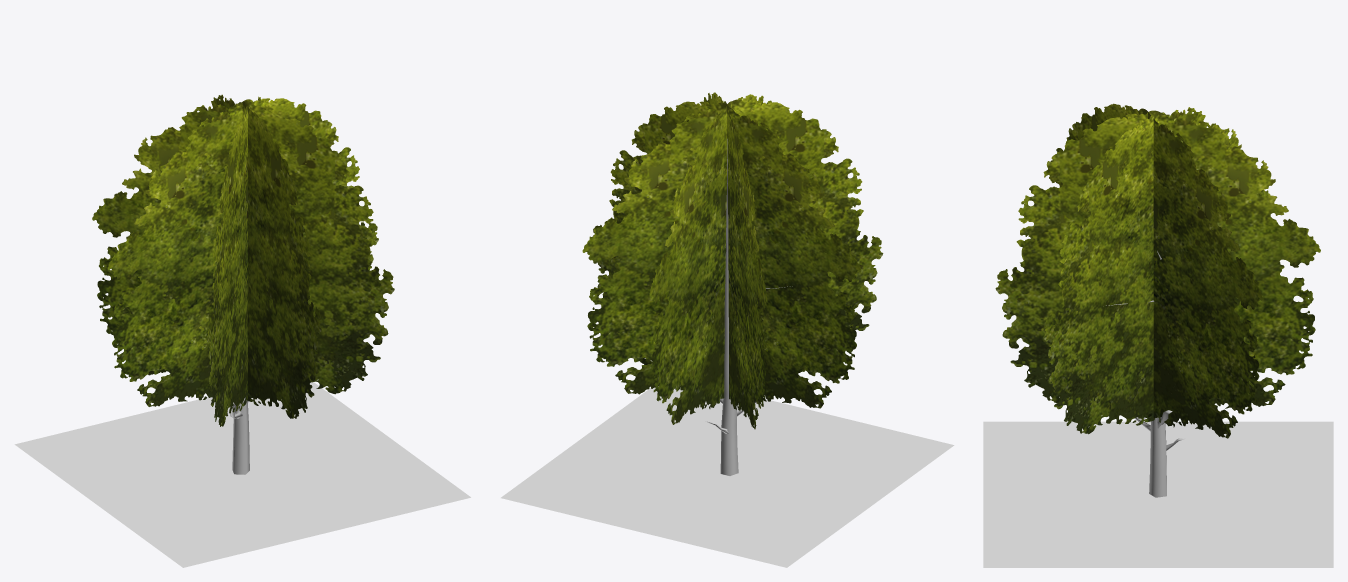
File: tree_03.FBX
3 renders of one model, left to right at view 1: azimuth 30°, elevation 25°; view 2: azimuth 150°, elevation 25°; view 3: azimuth 270°, elevation 25°, orthographic. The views are drawn at different scales.
Parts seen in each view (by area): view 1: tree_03_01, tree_03_sd001, tree_03_02; view 2: tree_03_01, tree_03_sd001, tree_03_02; view 3: tree_03_01, tree_03_sd001, tree_03_02.
Part boxes in pixels (<box>): tree_03_01: <box>92,94,394,426</box>; tree_03_sd001: <box>14,382,470,567</box>; tree_03_02: <box>229,397,249,474</box>; tree_03_01: <box>582,92,883,429</box>; tree_03_sd001: <box>501,386,954,567</box>; tree_03_02: <box>707,139,792,475</box>; tree_03_01: <box>995,103,1320,438</box>; tree_03_sd001: <box>983,421,1333,567</box>; tree_03_02: <box>1106,251,1186,497</box>.
Bounding box in the file's own units: 317 × 413 × 321.
